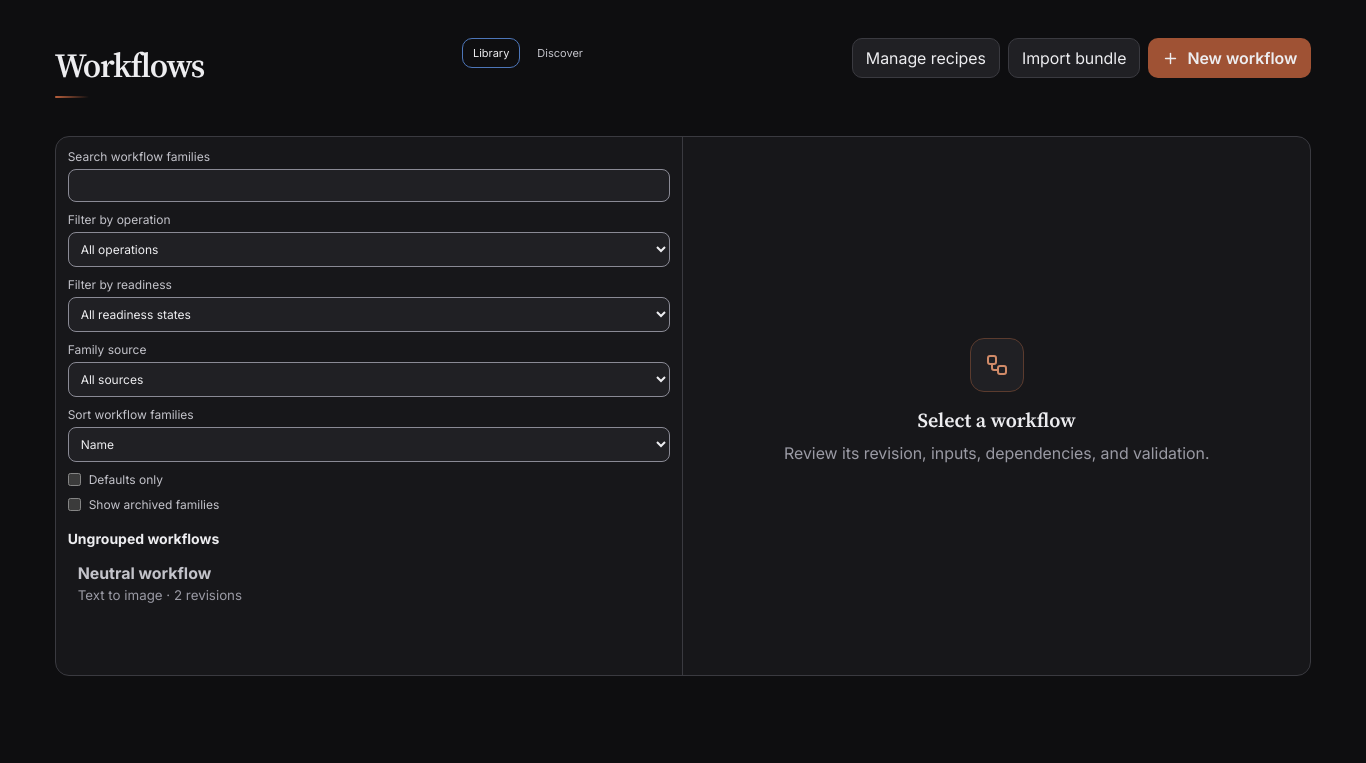
Test: reports only the activation while readiness consumers refresh
The image size is (1366, 763).
Click the text "Neutral workflow": x=144, y=573 x1=78 y1=563 x2=211 y2=583
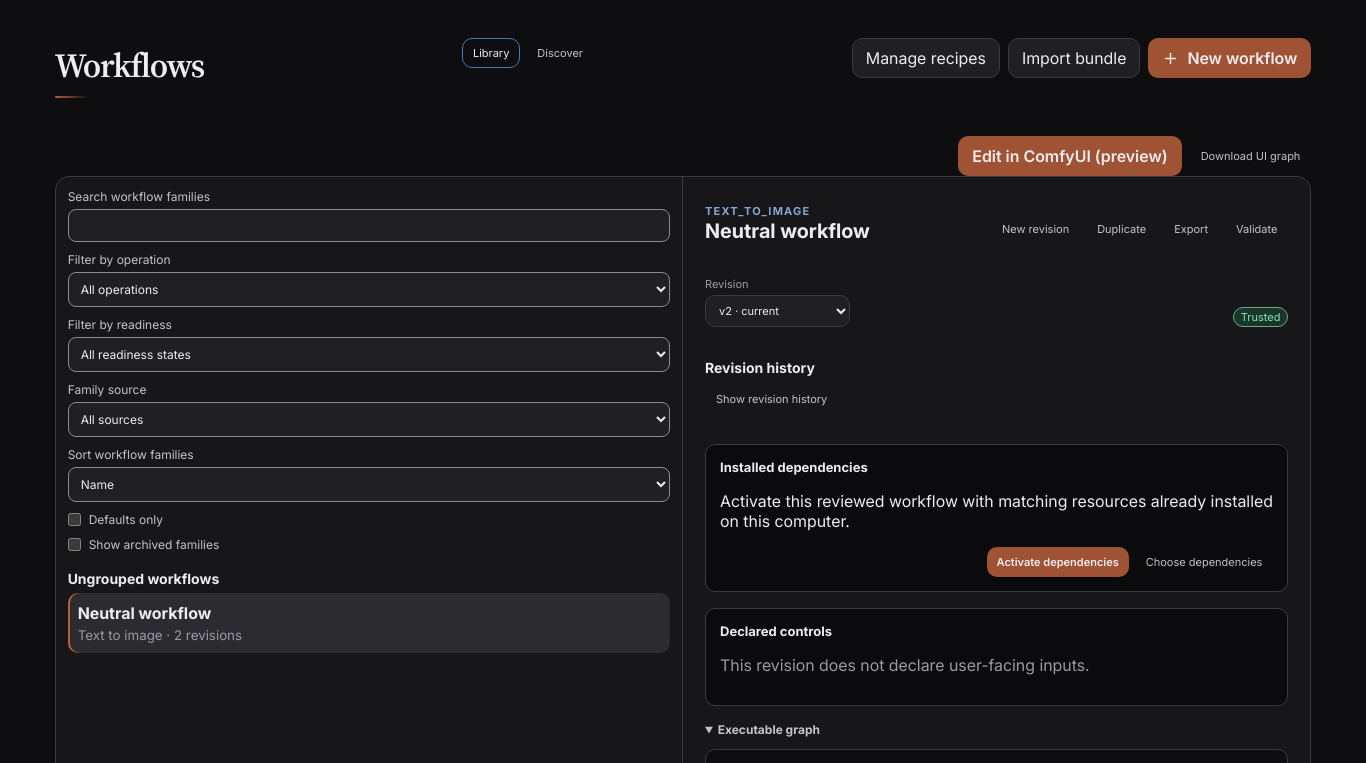
Expected: the button "New revision" is shown, x1=991 y1=214 x2=1080 y2=244
Click the button "Activate dependencies": x=1058, y=562 x1=987 y1=547 x2=1129 y2=577
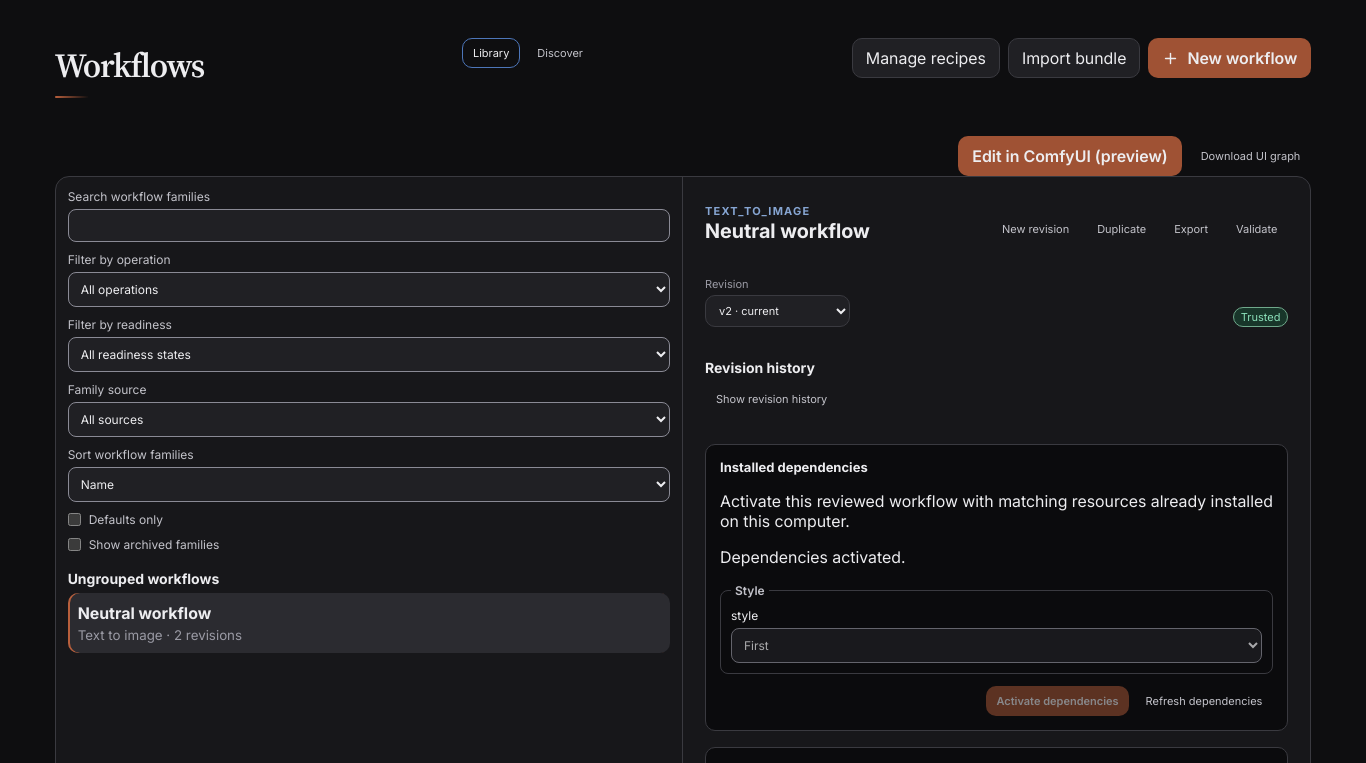
Expected: the messages read "Dependencies activated.", in this order, x1=720 y1=547 x2=906 y2=567
